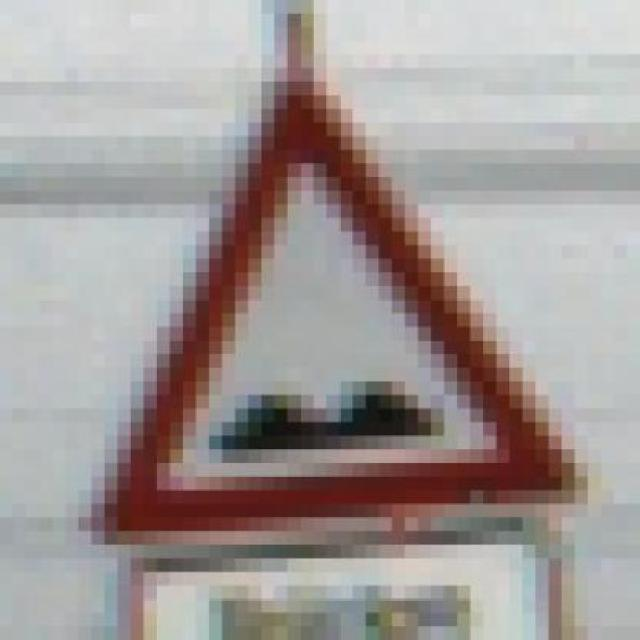Uneven Road: (78, 82, 588, 544)
